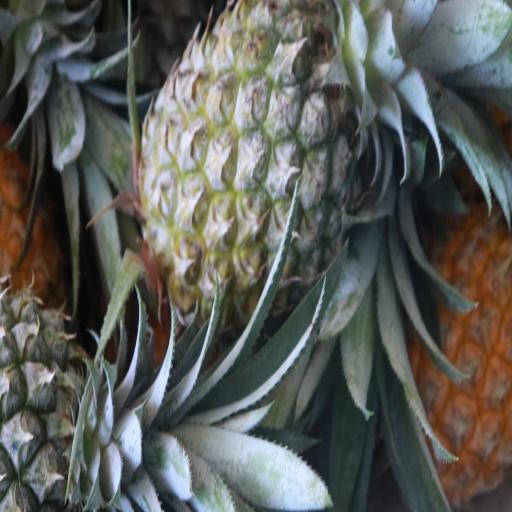------------------------------: (141, 0, 365, 329)
Pineapple - v8 v1: (408, 202, 511, 488)
